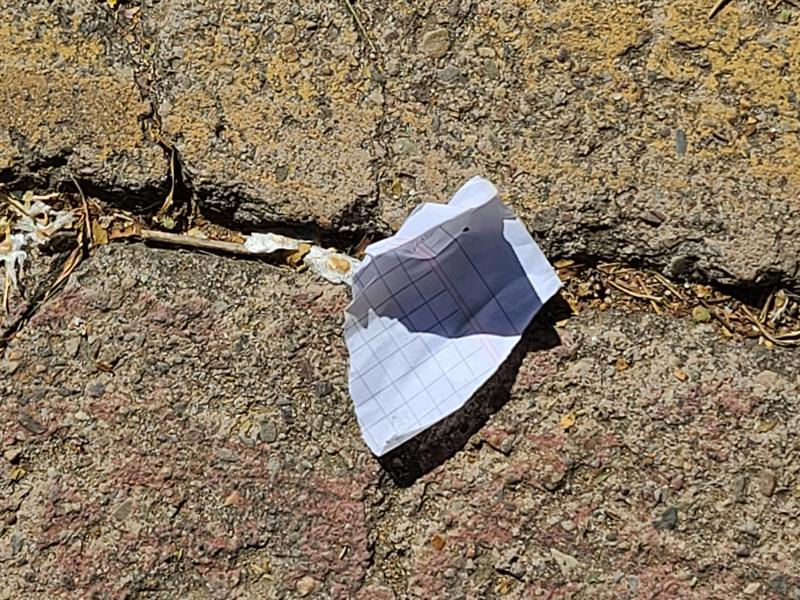papel: (343, 178, 563, 489)
